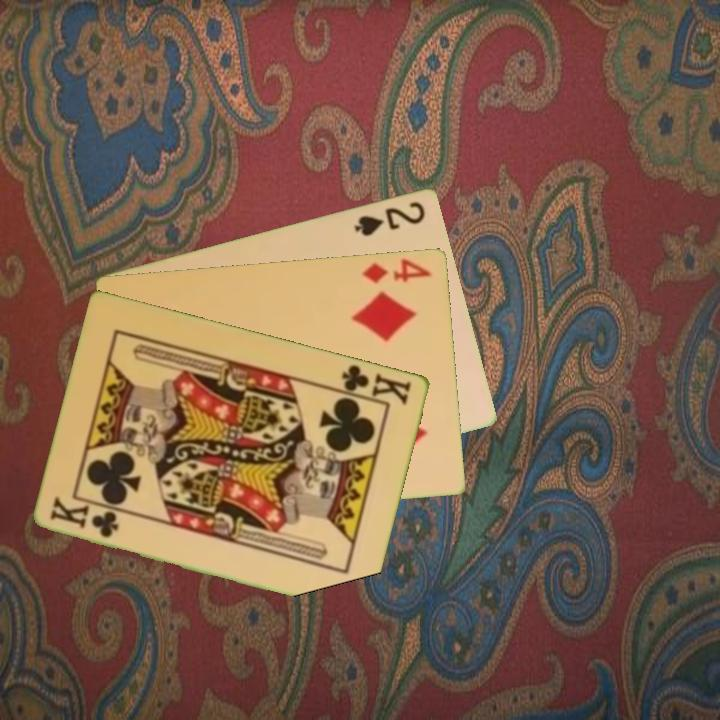2s: (351, 197, 428, 239)
4d: (358, 254, 436, 286)
Kc: (332, 360, 415, 407), (47, 495, 122, 540)
